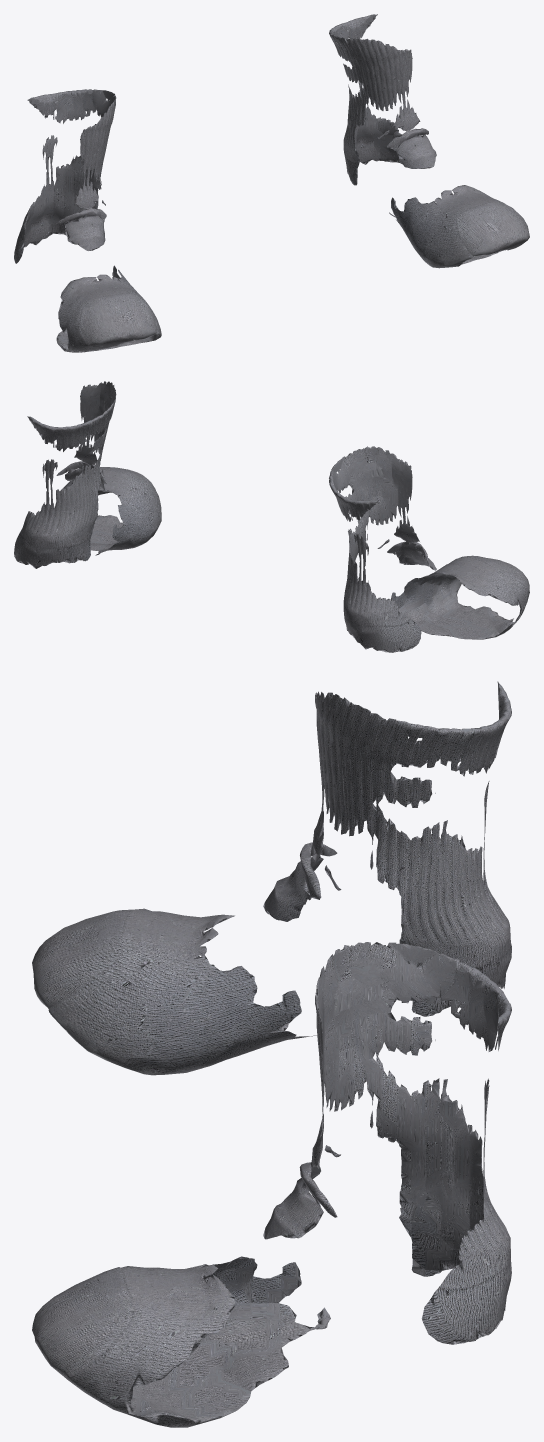
File: socks.glb
3 views of the same model, one above another, from view 1: azimuth 30°, elevation 25°; view 2: azimuth 150°, elevation 25°; view 3: azimuth 270°, elevation 25° (orthographic). The views are drawn at different scales.
Parts seen in each view (by area): view 1: Socks right, Socks left; view 2: Socks left, Socks right; view 3: Socks right, Socks left.
Boxes of the visible parts, x1,y1,x2,y2 form: Socks right: [329, 14, 529, 268]; Socks left: [14, 89, 161, 352]; Socks left: [329, 446, 529, 652]; Socks right: [14, 381, 161, 568]; Socks right: [32, 942, 511, 1427]; Socks left: [32, 681, 511, 1075].
Size of the model in its own units: 0.617 by 0.2606 by 0.2823.
Materials: 1 (1 with a texture image).
